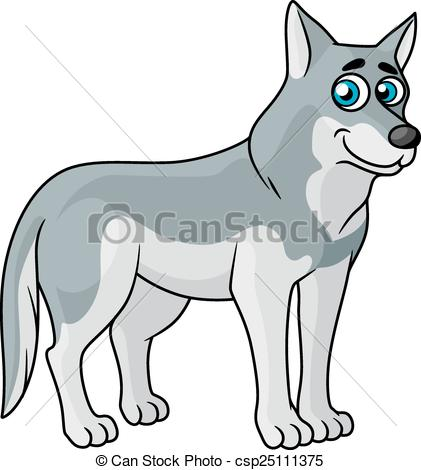Lobo: (2, 5, 417, 444)
